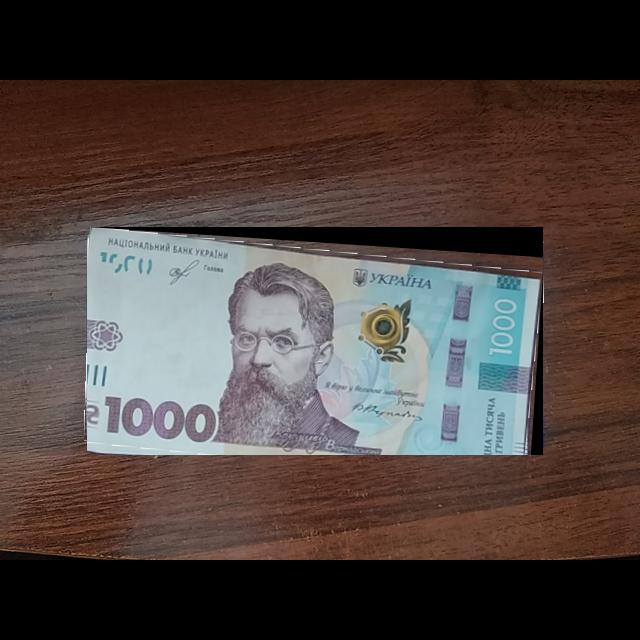1000uah: (87, 227, 543, 456)
